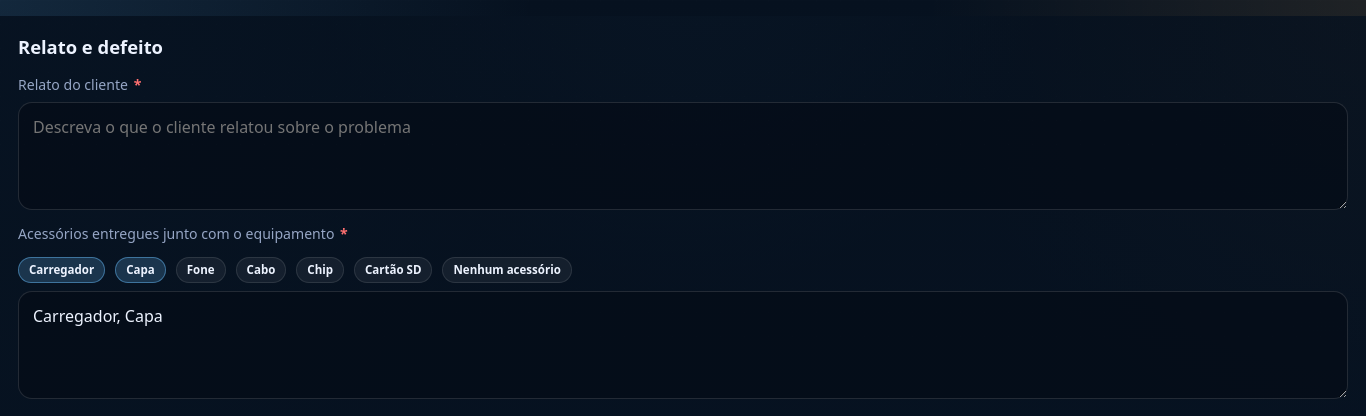
Scenario: StepDetails › clicar de novo no chip já ativo remove o item
Click the button "Capa".
click(140, 270)  # box [115, 257, 166, 282]
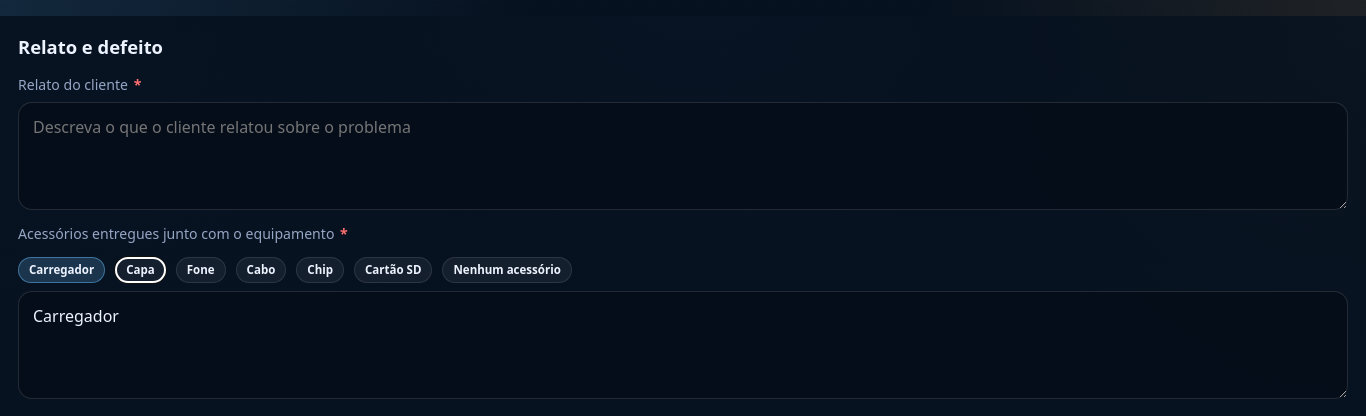
Now the text box labelled "Acessórios entregues junto com o equipamento *" holds "Carregador", box [18, 290, 1348, 398]
